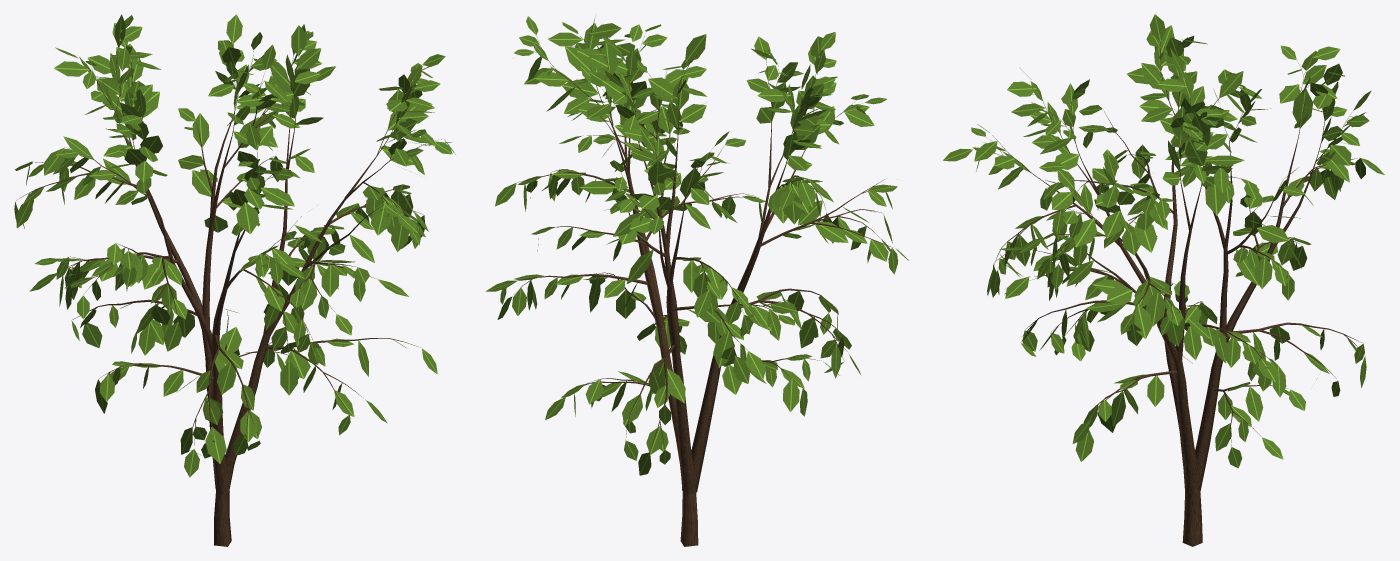
File: abedul.glb
The picture shows the model from 3 angles, left to right: view 1: azimuth 30°, elevation 25°; view 2: azimuth 150°, elevation 25°; view 3: azimuth 270°, elevation 25°; orthographic projection. The views are drawn at different scales.
Visible parts, largest first — view 1: leaves, tree; view 2: leaves, tree; view 3: leaves, tree.
Part boxes in pixels (<box>): leaves: <box>14,14,455,477</box>; tree: <box>16,34,441,546</box>; leaves: <box>485,16,909,475</box>; tree: <box>505,33,892,546</box>; leaves: <box>943,14,1384,468</box>; tree: <box>975,42,1364,546</box>.
Bounding box in the file's own units: 0.7838 × 1 × 0.8159.
2 materials, 2 textured.
